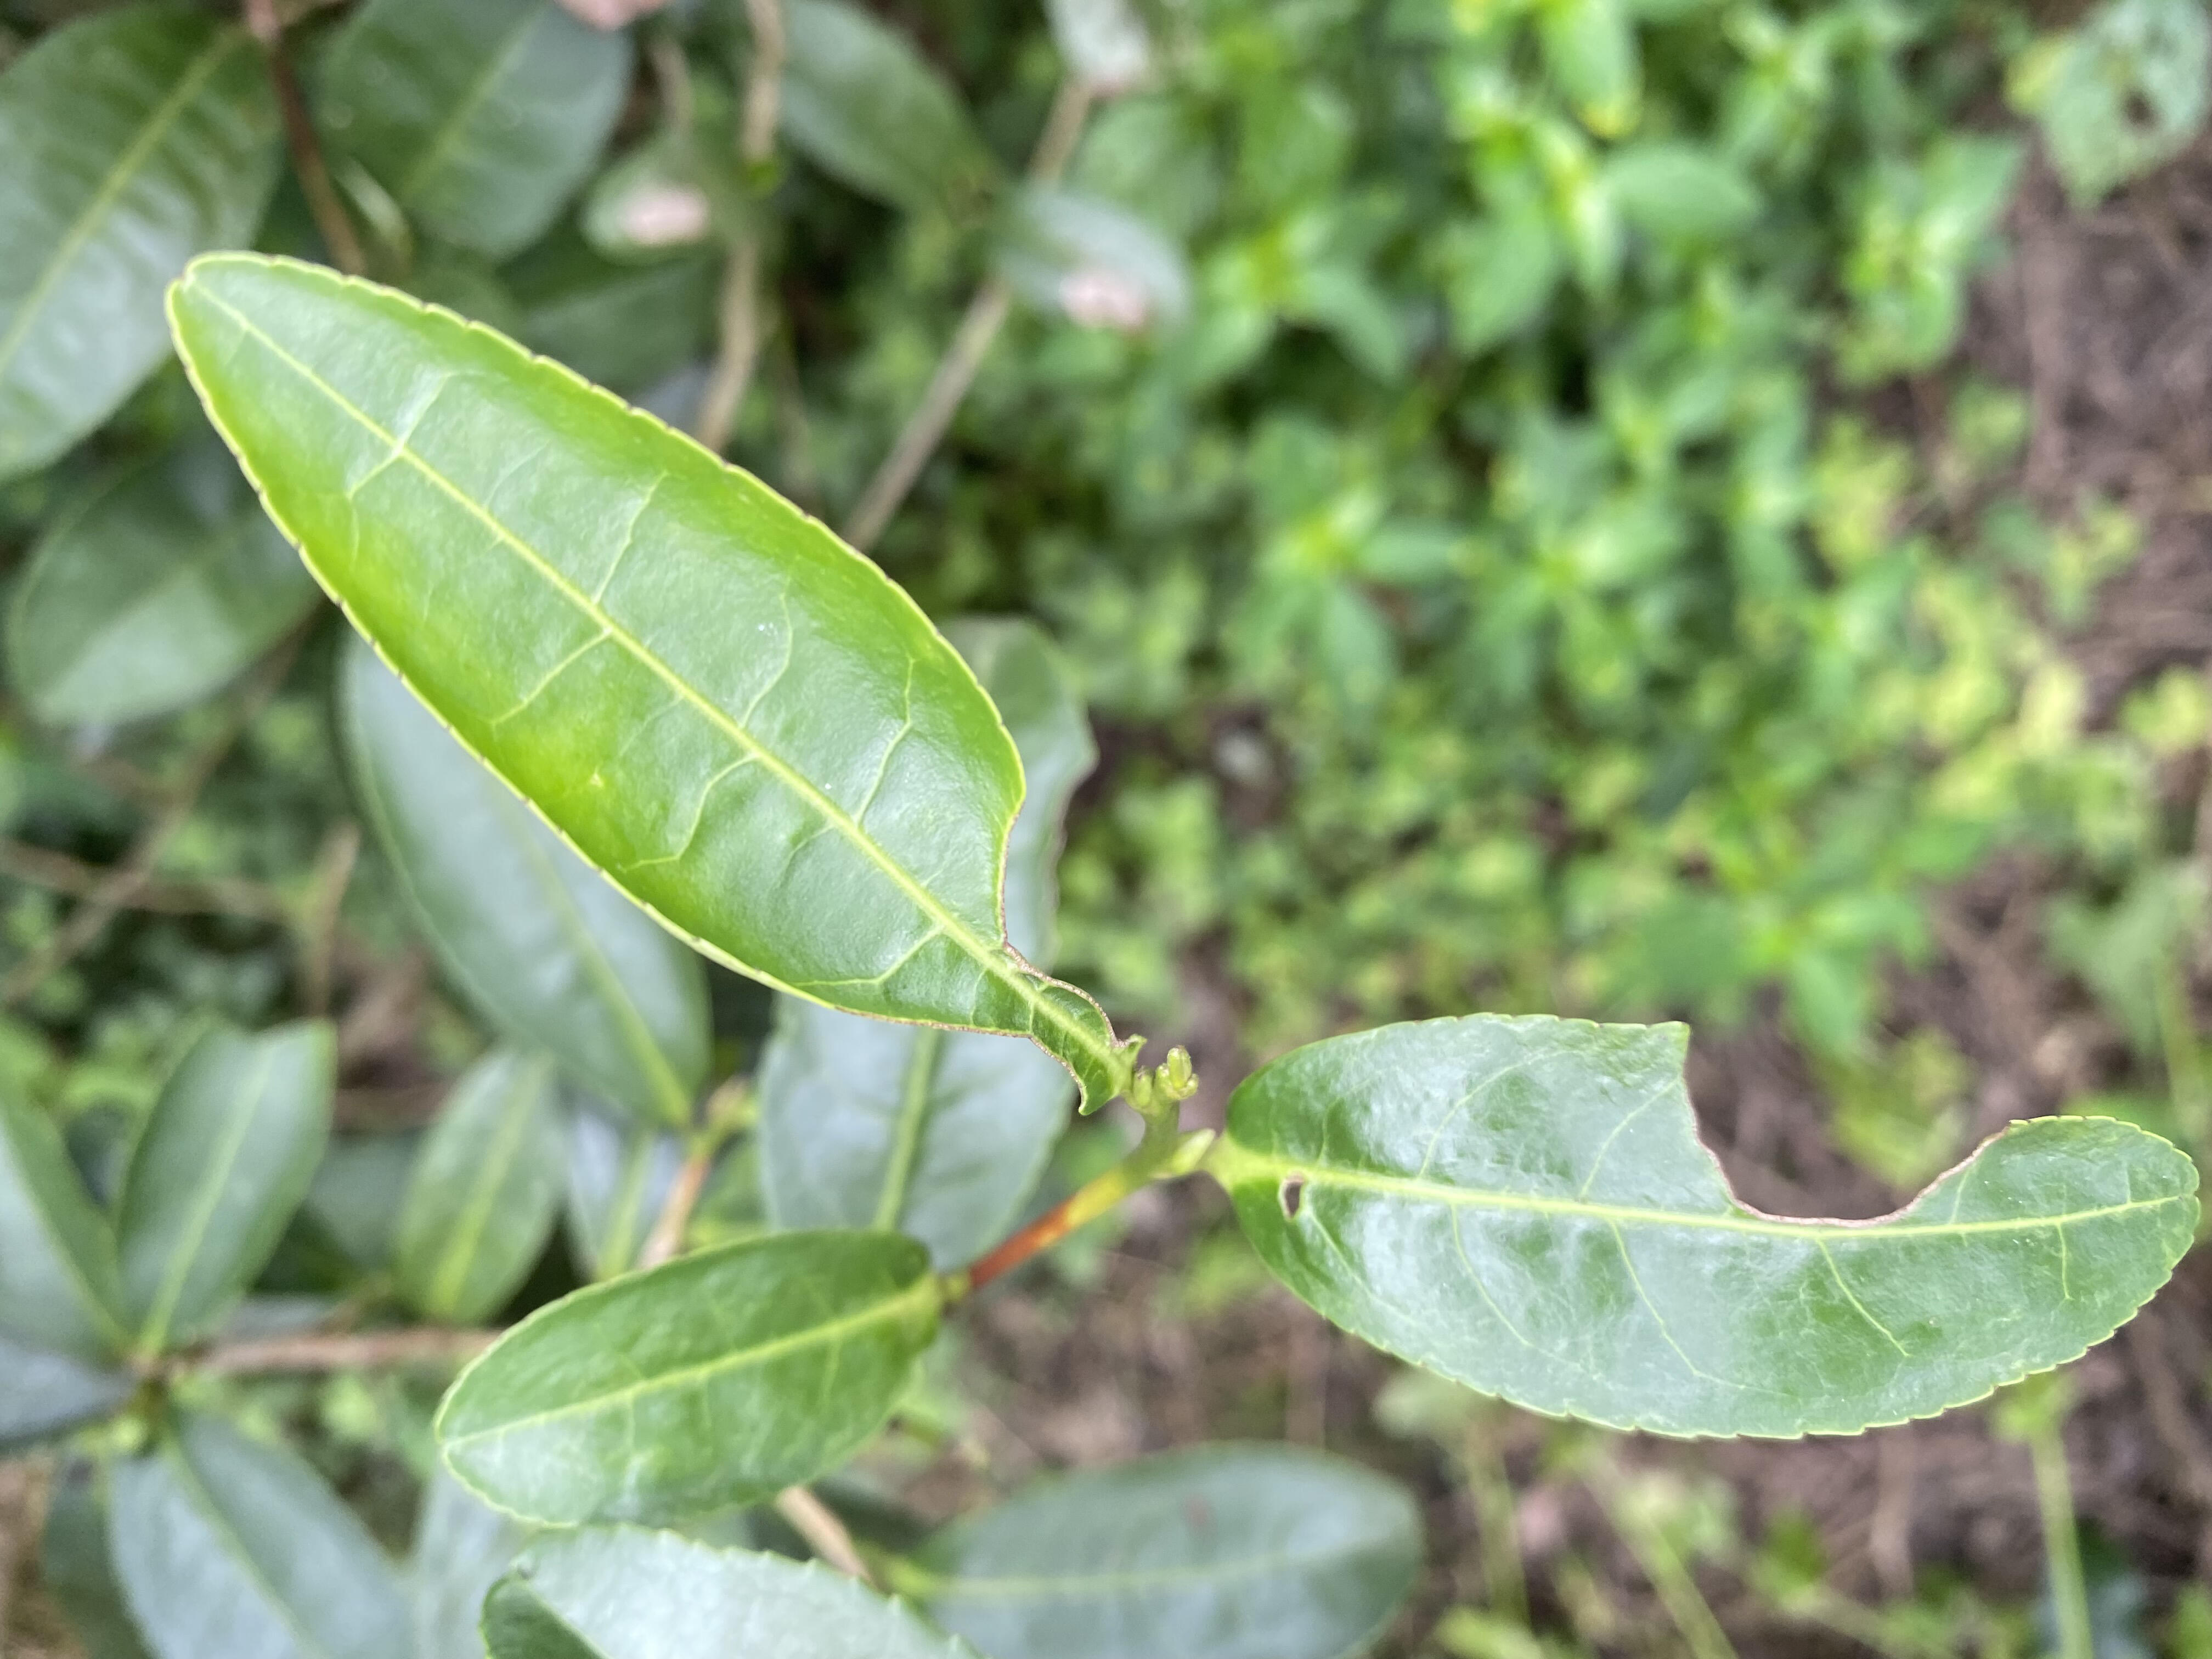chihuo_high: (164, 249, 1144, 1117), (1212, 1012, 2203, 1443)
healthy: (432, 1227, 944, 1528)
